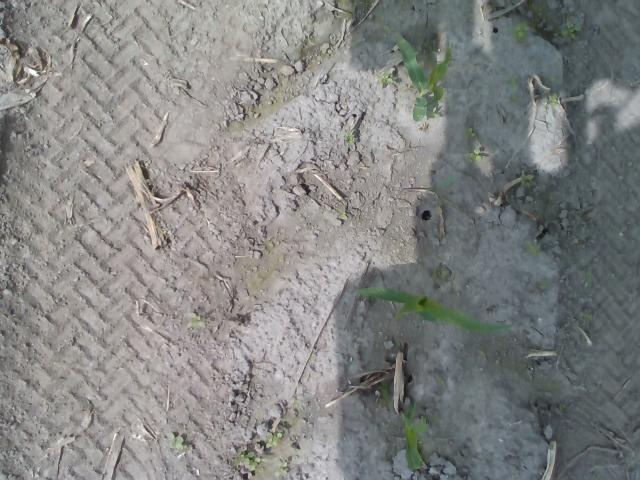Maize: (351, 286, 518, 336), (392, 32, 448, 125), (398, 409, 430, 471)
Weeds: (237, 450, 260, 470), (183, 310, 206, 327), (513, 21, 530, 40), (266, 432, 284, 449), (168, 433, 183, 450), (463, 148, 482, 161), (273, 462, 289, 477), (508, 74, 521, 90), (562, 24, 576, 38), (526, 241, 538, 256), (377, 72, 392, 84), (547, 94, 562, 106), (536, 278, 550, 290), (582, 271, 593, 286), (520, 174, 534, 185), (463, 128, 477, 138), (344, 134, 354, 145), (584, 312, 594, 322)
